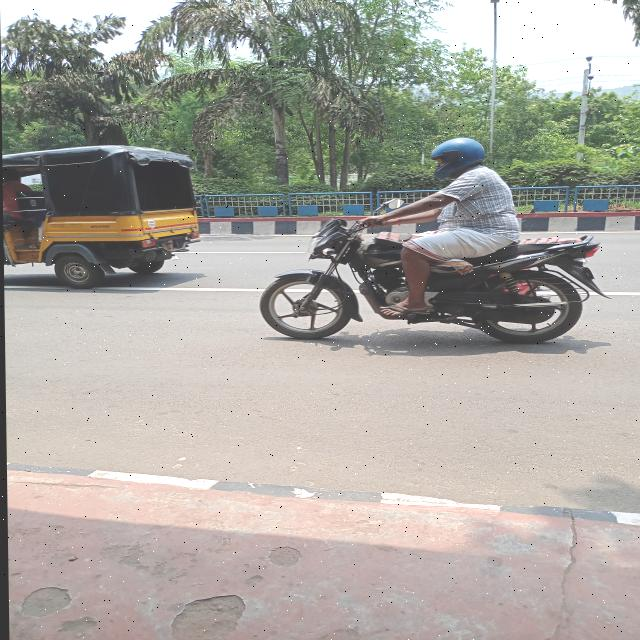bike: (256, 209, 607, 345)
